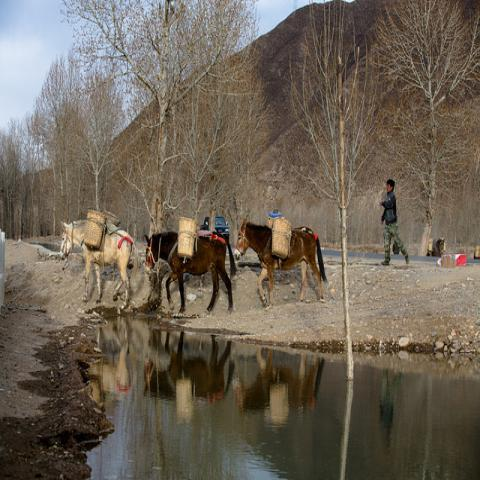car: (200, 214, 230, 240)
